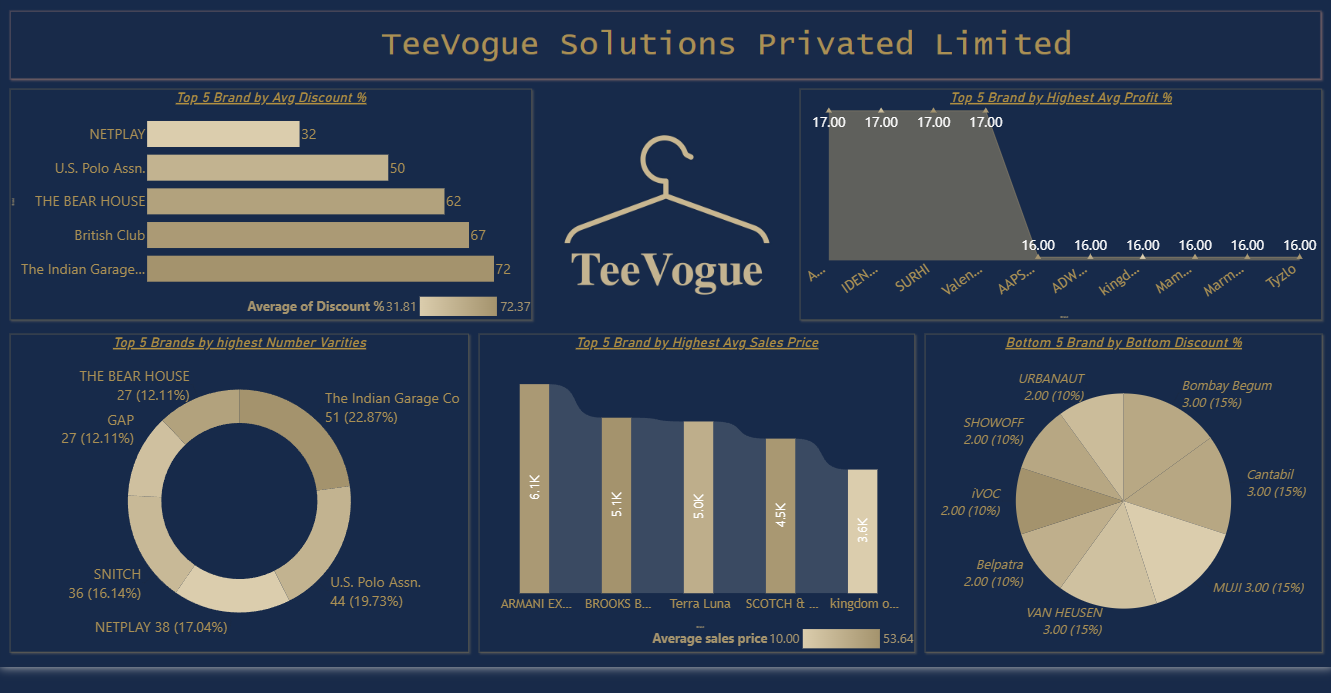

This screenshot's page, from the dashboard's own definition file:
{"tool":"powerbi","page":{"name":" Details","canvas":[6912,3456],"ordinal":1},"visuals":[{"type":"ScrollingTextVisual1448795304508","fields":{"Category":["Tshirt.Brand"]},"box":[50.2,57.4,6797.2,351.7],"z":0},{"type":"barChart","title":"Top 5 Brand by Avg Discount %","fields":{"Category":["Tshirt.Brand"],"Y":["Avg(Tshirt.Discount %)"]},"box":[52,460.8,2705.3,1196.6],"z":1000},{"type":"donutChart","title":"Top 5 Brands by highest Number Varities","fields":{"Category":["Tshirt.Brand"],"Y":["Count(Tshirt.Title)"]},"box":[52,1731.7,2378.3,1650],"z":2000},{"type":"ribbonChart","title":"Top 5 Brand by Highest Avg Sales Price","fields":{"Category":["Tshirt.Brand"],"Y":["Avg(Tshirt.Sales Price )"]},"box":[2482.4,1731.7,2259.4,1650],"z":3000},{"type":"areaChart","title":"Top 5 Brand by Highest Avg Profit %","fields":{"Category":["Tshirt.Brand"],"Y":["Avg(Tshirt.Profit %)"]},"box":[4147.2,460.8,2705.3,1196.6],"z":4000},{"type":"pieChart","title":"Bottom 5 Brand by Bottom Discount %","fields":{"Category":["Tshirt.Brand"],"Y":["Avg(Tshirt.Profit %)"]},"box":[4793.8,1731.7,2058.7,1650],"z":5000}]}

Visuals, with their boxes on the page's 6912x3456 design canvas (x1, y1, x2, y2). These are canvas units, not pixel positions in the 1331x693 screenshot, which may show the page scaled, cropped or inside an application window:
ScrollingTextVisual1448795304508 - Tshirt.Brand: rect(50, 57, 6847, 409)
"Top 5 Brand by Avg Discount %" barChart: rect(52, 461, 2757, 1657)
"Top 5 Brands by highest Number Varities" donutChart: rect(52, 1732, 2430, 3382)
"Top 5 Brand by Highest Avg Sales Price" ribbonChart: rect(2482, 1732, 4742, 3382)
"Top 5 Brand by Highest Avg Profit %" areaChart: rect(4147, 461, 6852, 1657)
"Bottom 5 Brand by Bottom Discount %" pieChart: rect(4794, 1732, 6852, 3382)
